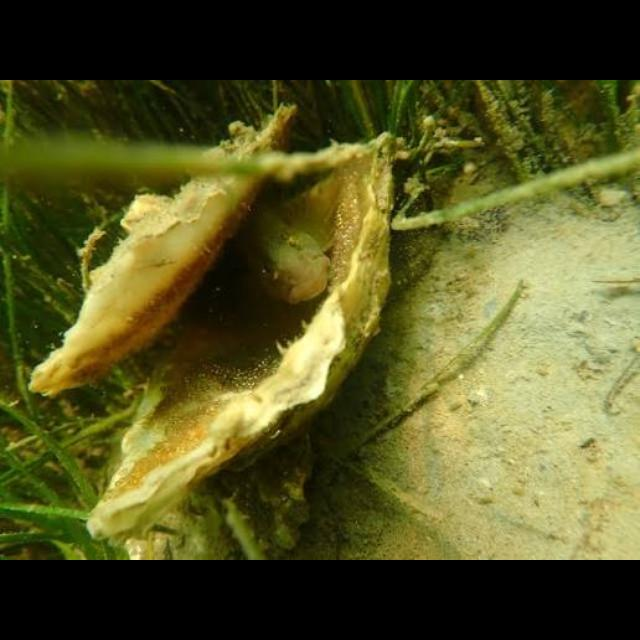Oyster-Open: (26, 101, 398, 539)
